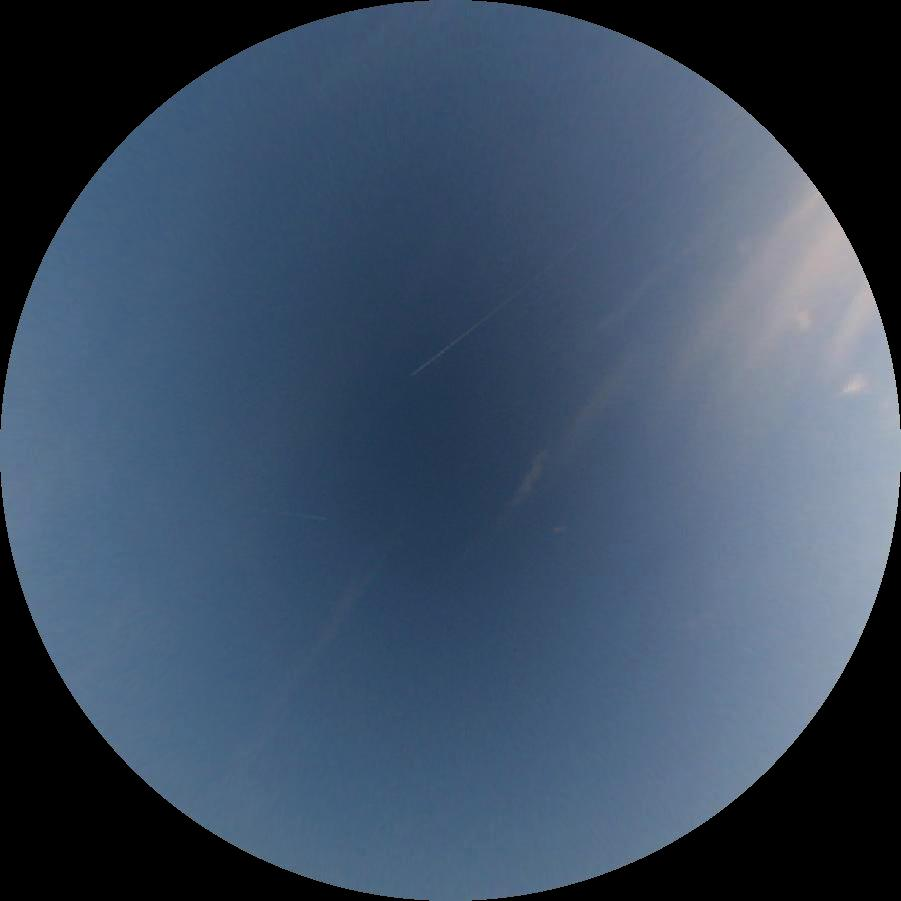contrail young: (411, 109, 750, 378), (284, 511, 327, 521)
